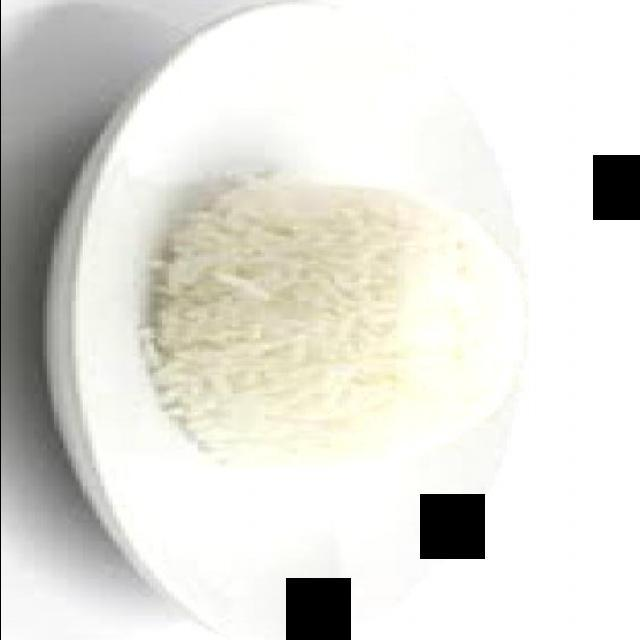rice: (141, 178, 525, 471)
